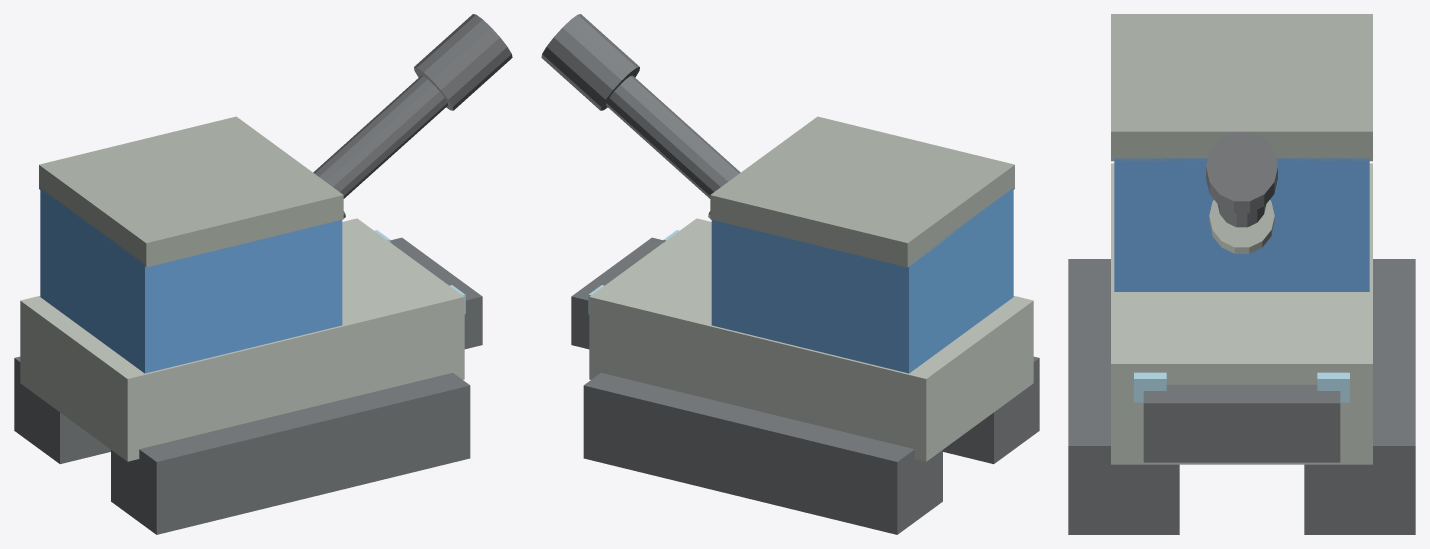
The model's file is spg_blue.glb.
3 renders of one model, left to right at view 1: azimuth 30°, elevation 25°; view 2: azimuth 150°, elevation 25°; view 3: azimuth 270°, elevation 25°, orthographic. The views are drawn at different scales.
Parts seen in each view (by area): view 1: part02, part03, part00, part04, part05, part06, part01, part08; view 2: part02, part03, part01, part04, part05, part06, part00, part08; view 3: part04, part02, part03, part00, part01, part08, part06, part07, part09, part10, part05.
Boxes of the visible parts, x1=… form: part02: x1=20, y1=218, x2=464, y2=461; part03: x1=40, y1=188, x2=342, y2=373; part00: x1=111, y1=372, x2=470, y2=534; part04: x1=39, y1=116, x2=343, y2=267; part05: x1=313, y1=75, x2=447, y2=198; part06: x1=414, y1=14, x2=512, y2=110; part01: x1=14, y1=356, x2=110, y2=464; part08: x1=390, y1=237, x2=482, y2=349; part02: x1=589, y1=218, x2=1033, y2=461; part03: x1=711, y1=188, x2=1013, y2=373; part01: x1=583, y1=372, x2=942, y2=534; part04: x1=710, y1=116, x2=1014, y2=267; part05: x1=606, y1=75, x2=740, y2=198; part06: x1=541, y1=14, x2=639, y2=110; part00: x1=943, y1=356, x2=1039, y2=464; part08: x1=571, y1=237, x2=663, y2=349; part04: x1=1111, y1=14, x2=1372, y2=161; part02: x1=1111, y1=163, x2=1372, y2=464; part03: x1=1114, y1=158, x2=1369, y2=291; part00: x1=1068, y1=259, x2=1179, y2=534; part01: x1=1304, y1=259, x2=1415, y2=534; part08: x1=1143, y1=384, x2=1340, y2=462; part06: x1=1206, y1=131, x2=1277, y2=213; part07: x1=1209, y1=200, x2=1274, y2=253; part09: x1=1134, y1=372, x2=1166, y2=402; part10: x1=1317, y1=372, x2=1349, y2=402; part05: x1=1217, y1=204, x2=1266, y2=227.
Size of the model in its own units: 1.86 by 1.52 by 1.06.
